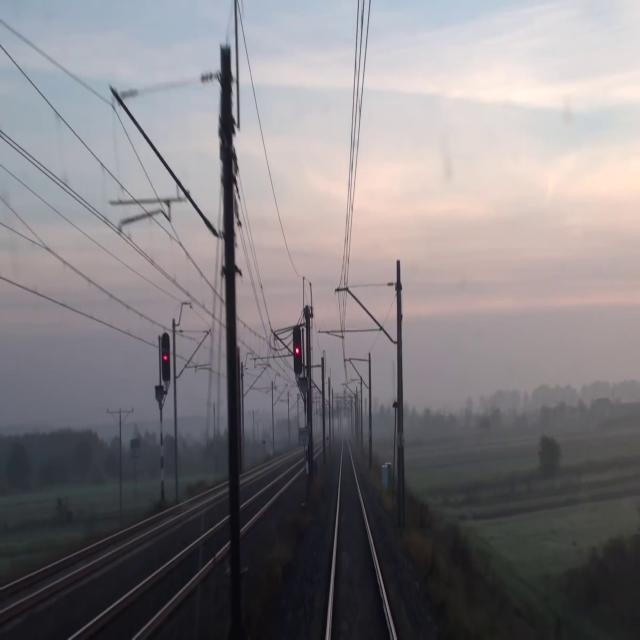rail-track: (78, 520, 230, 639), (0, 524, 150, 604), (330, 443, 391, 639), (238, 473, 291, 524)
